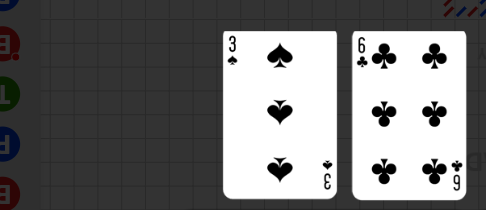3S: (226, 35, 240, 68)
6C: (449, 157, 463, 192)
